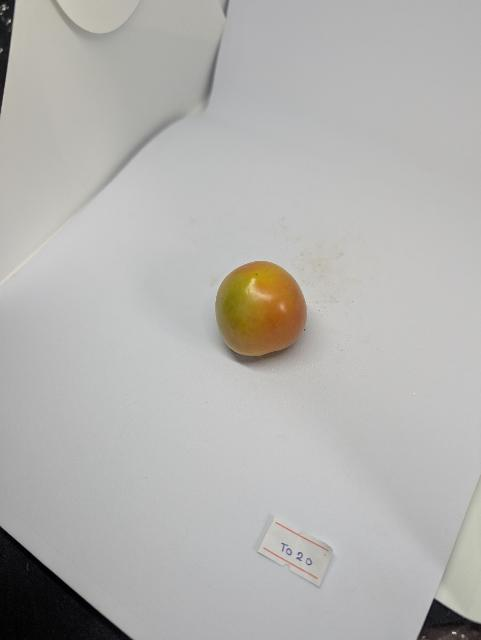turning: (209, 254, 316, 366)
